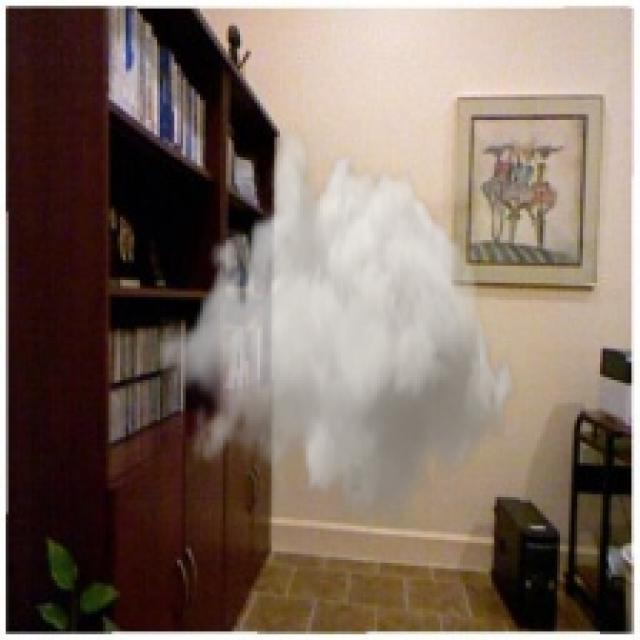Smoke: (154, 123, 517, 540)
